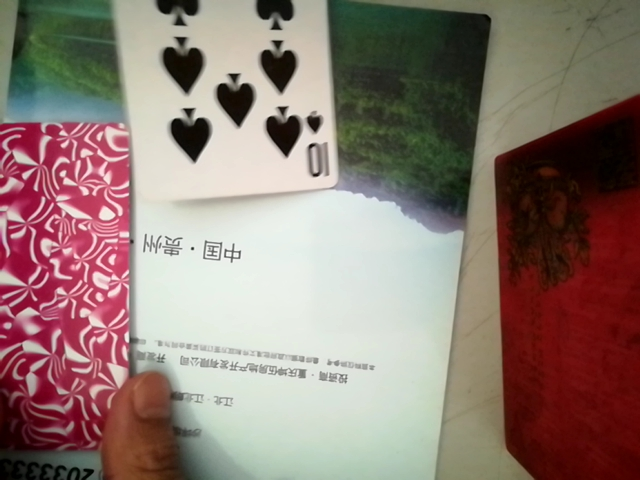ht 10: (120, 7, 347, 216)
